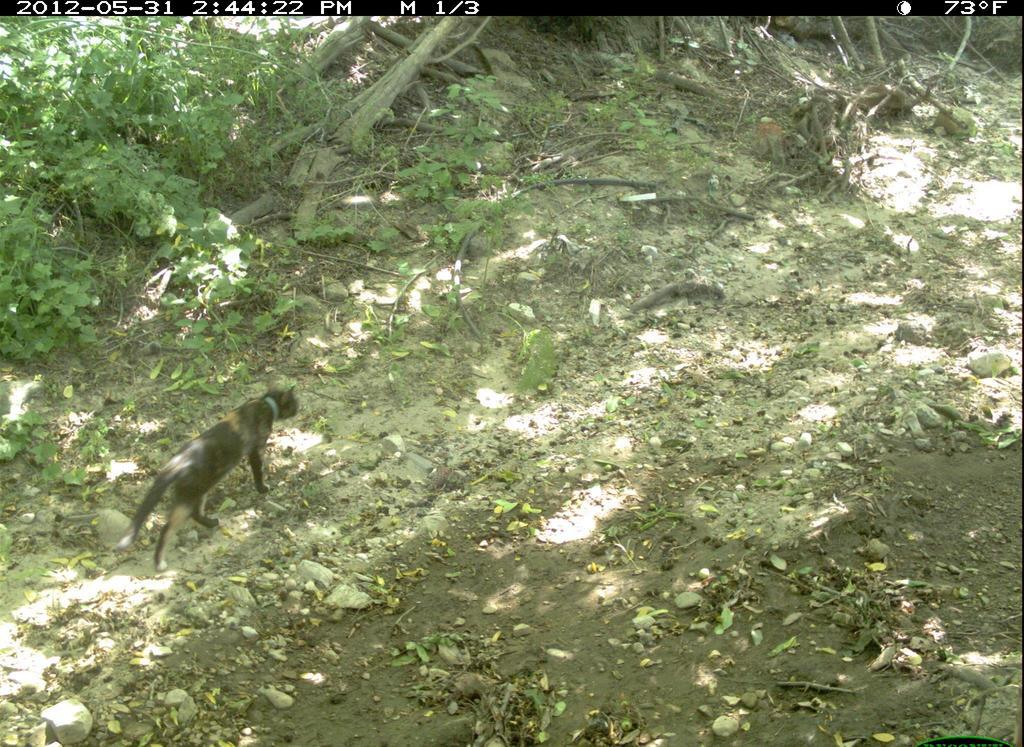cat: (104, 360, 356, 580)
